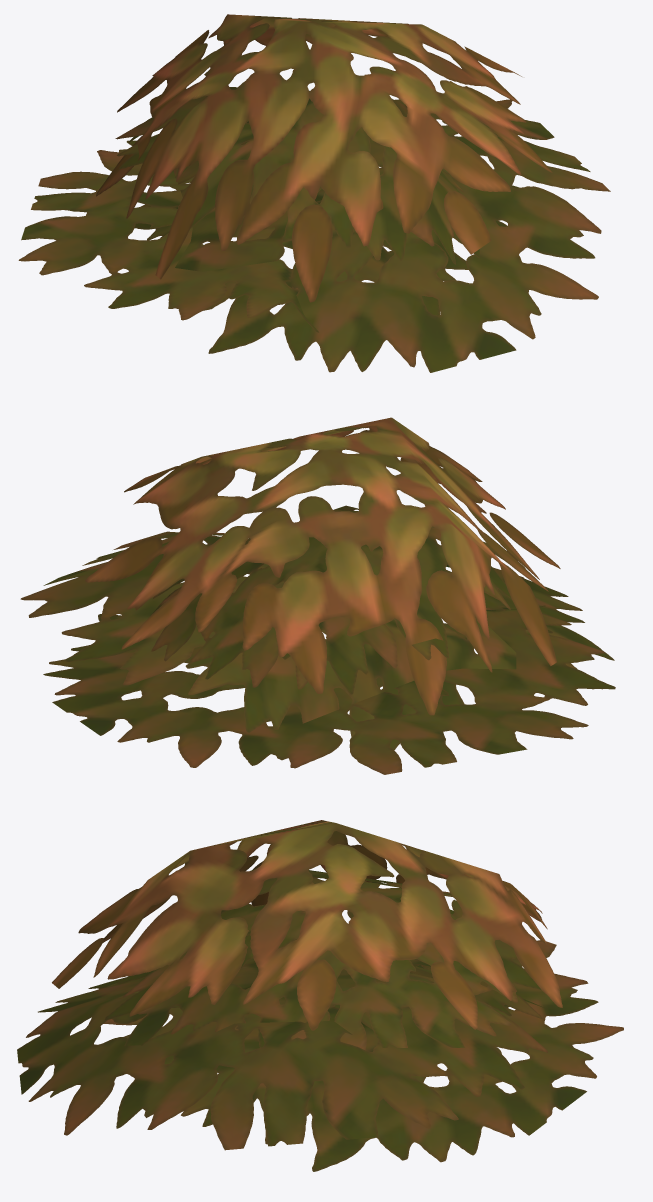
The model's file is plant_vege_067.FBX.
3 views of the same model, one above another, from view 1: azimuth 30°, elevation 25°; view 2: azimuth 150°, elevation 25°; view 3: azimuth 270°, elevation 25° (orthographic). The views are drawn at different scales.
Visible parts, largest first — view 1: plant_vege_067_01; view 2: plant_vege_067_01; view 3: plant_vege_067_01.
Part boxes in pixels (x1=…): plant_vege_067_01: x1=18, y1=14, x2=610, y2=372; plant_vege_067_01: x1=20, y1=417, x2=615, y2=774; plant_vege_067_01: x1=17, y1=820, x2=623, y2=1171.
Bounding box in the file's own units: 3.59 × 1.54 × 3.58.
